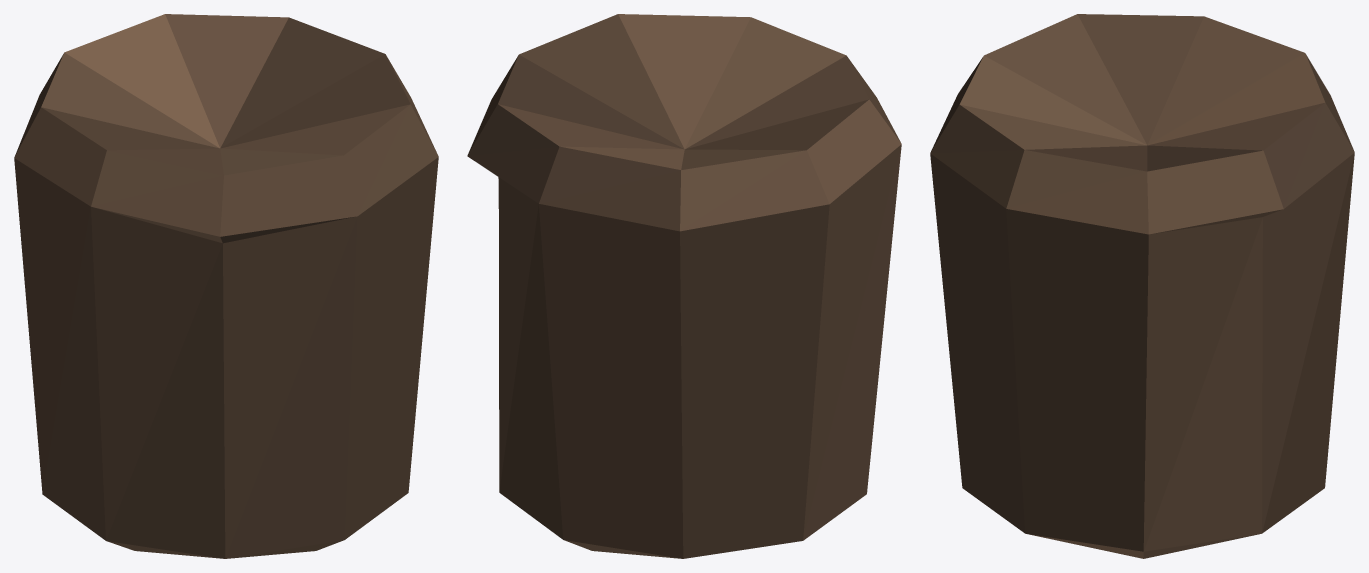
File: Prop_GrainBagCLOD1.fbx
3 renders of one model, left to right at view 1: azimuth 30°, elevation 25°; view 2: azimuth 150°, elevation 25°; view 3: azimuth 270°, elevation 25°, orthographic.
Visible parts, largest first — view 1: Prop_GrainBagCLOD1; view 2: Prop_GrainBagCLOD1; view 3: Prop_GrainBagCLOD1.
Boxes of the visible parts, x1,y1,x2,y2 form: Prop_GrainBagCLOD1: [14, 14, 438, 558]; Prop_GrainBagCLOD1: [467, 14, 901, 558]; Prop_GrainBagCLOD1: [930, 14, 1354, 558].
Size of the model in its own units: 55.71 by 60.44 by 56.4.
